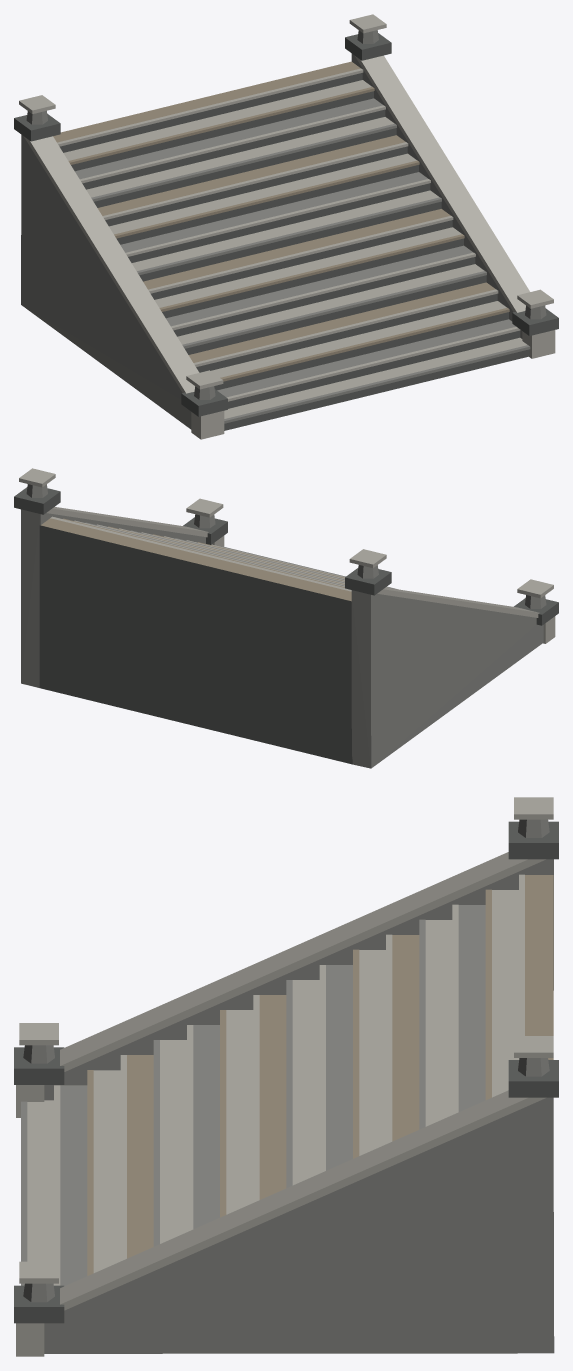
Rendered from stairs_stone_large.fbx.
3 views of the same model, one above another, from view 1: azimuth 30°, elevation 25°; view 2: azimuth 150°, elevation 25°; view 3: azimuth 270°, elevation 25° (orthographic). The views are drawn at different scales.
Visible parts, largest first — view 1: stairs_stone_large; view 2: stairs_stone_large; view 3: stairs_stone_large.
Boxes of the visible parts, left/top/right/bottom form: stairs_stone_large: left=14, top=14, right=558, bottom=439; stairs_stone_large: left=14, top=468, right=558, bottom=768; stairs_stone_large: left=14, top=797, right=558, bottom=1356.
Bounding box in the file's own units: 9.26 × 5.05 × 8.21.
